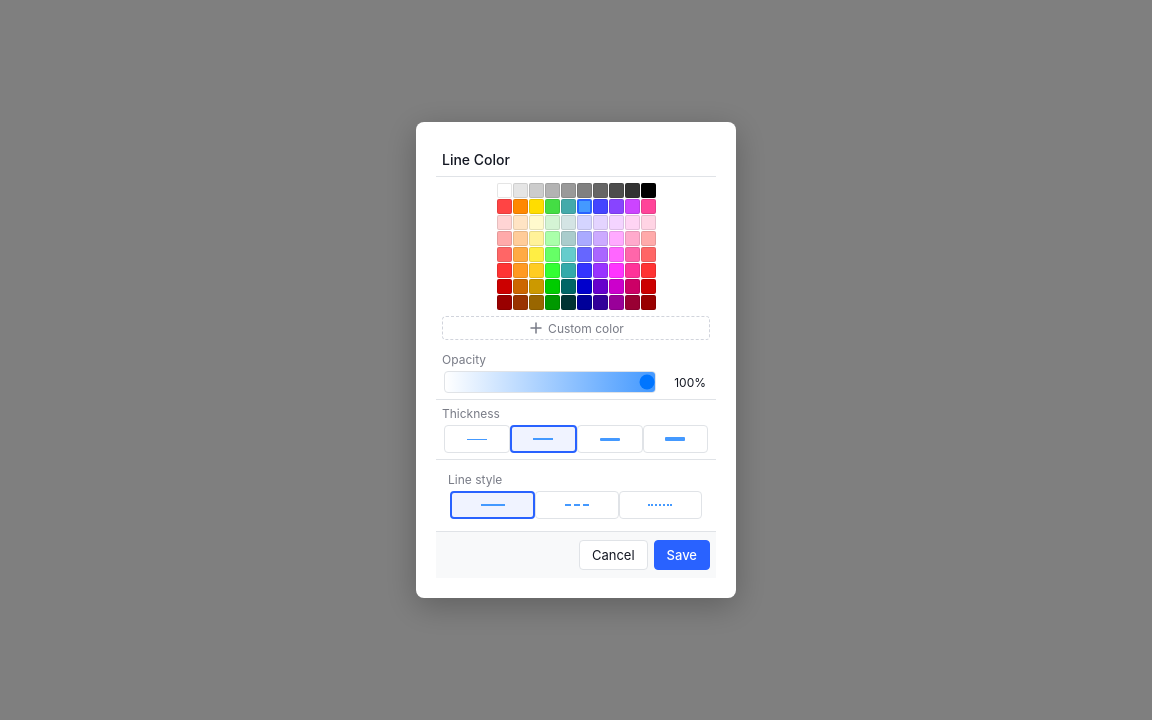
it: LineEditorDialog › should update color when custom color is selected
Open color picker
Click the button "Custom color".
click(576, 328)  # box [442,316,710,340]
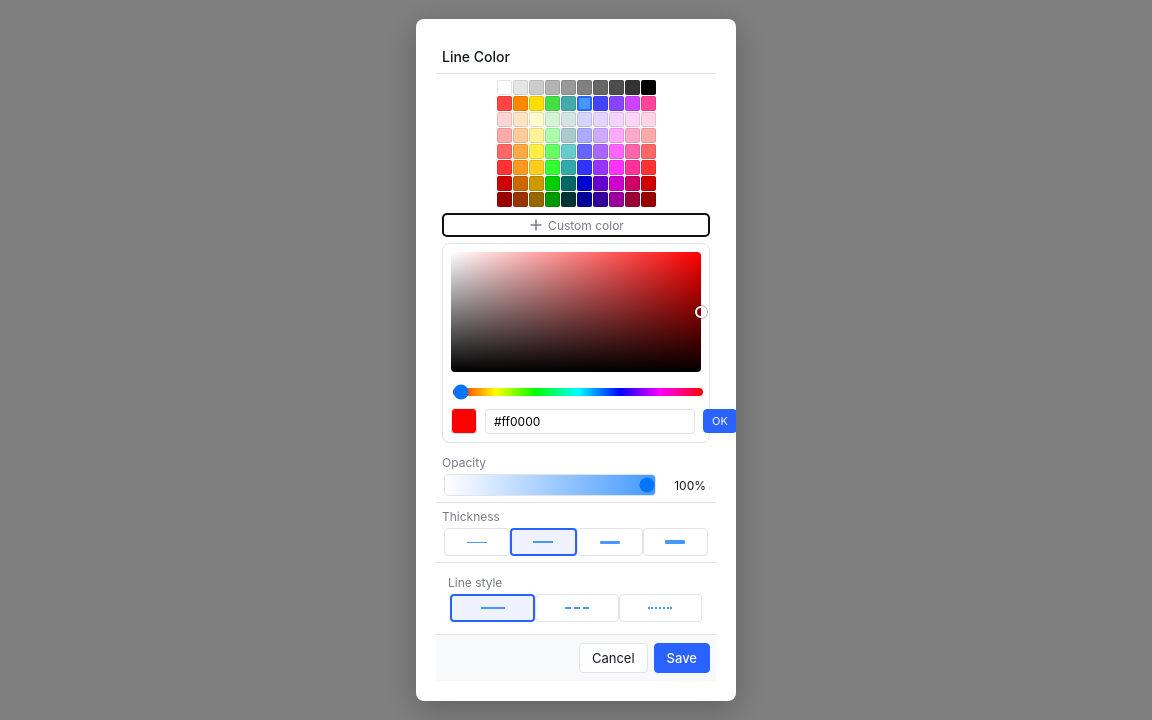
Select new color
Click the button "OK".
click(720, 421)  # box [703,409,737,433]
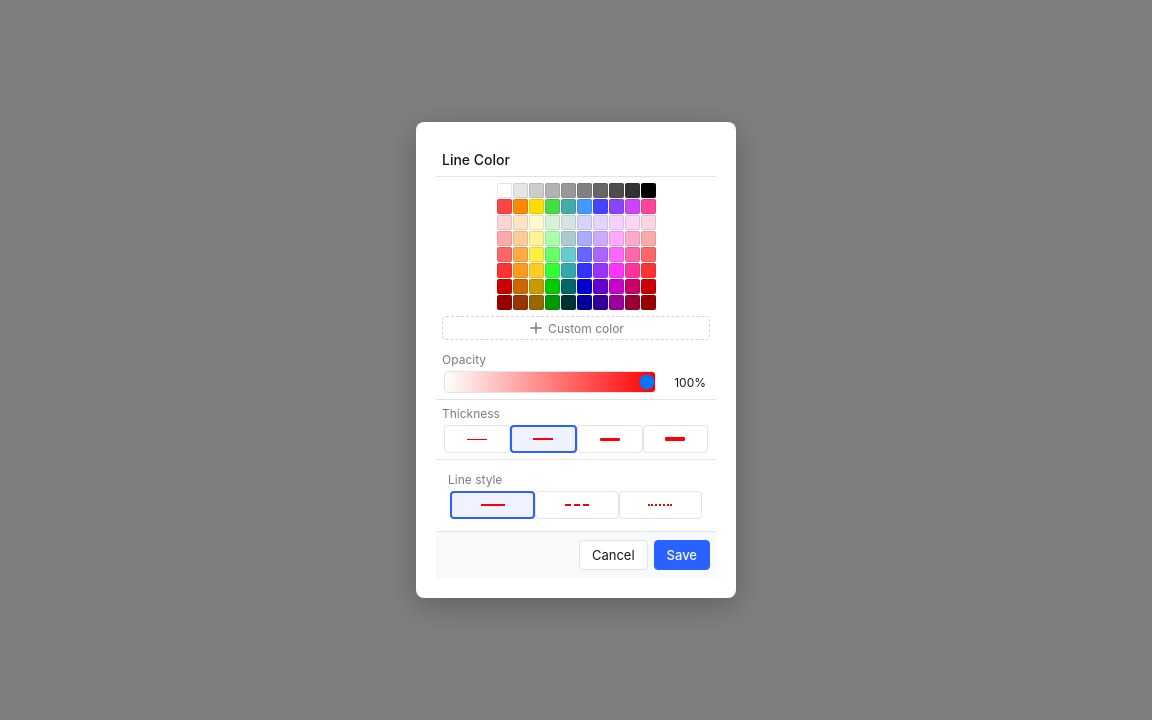
Check: the button "Custom color" is shown, box [442,316,710,340]
Check: the button "OK" is gone
